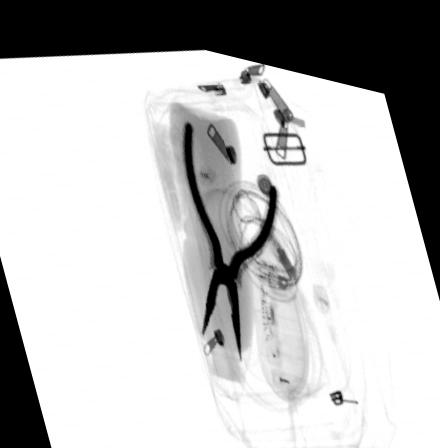Pliers: (181, 111, 280, 352)
